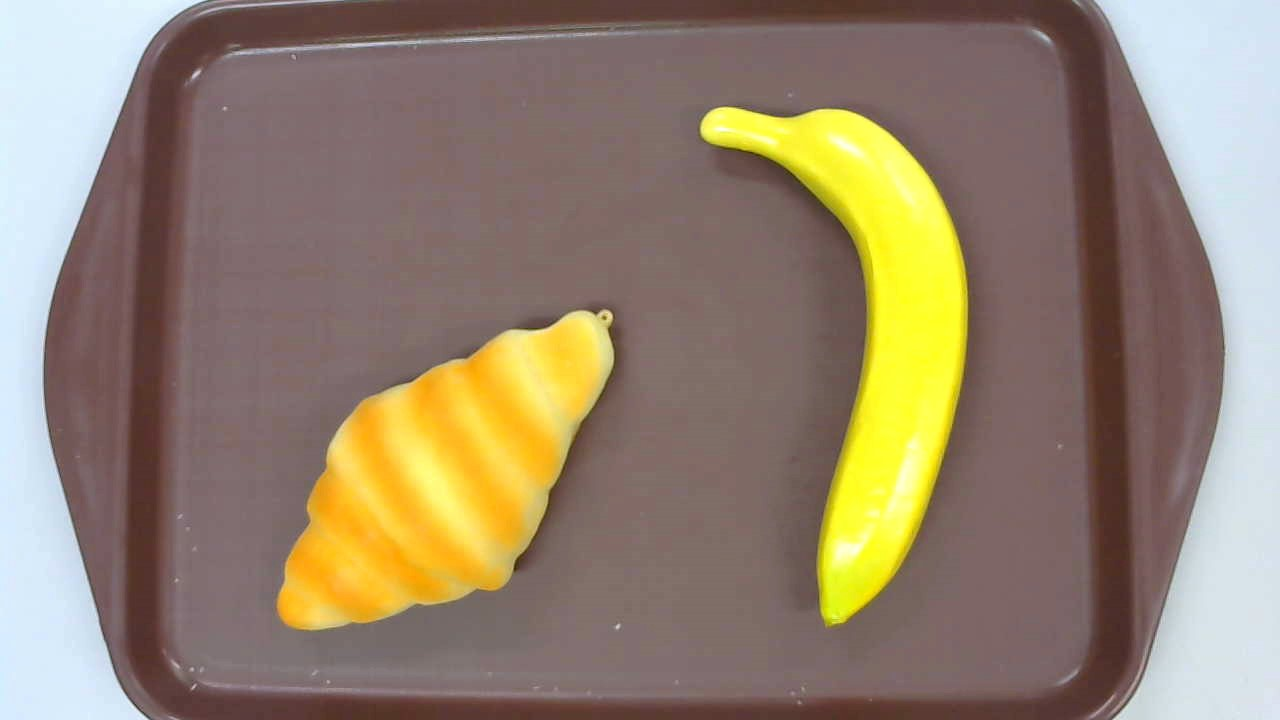banana: (700, 105, 970, 634)
croissant: (273, 307, 616, 634)
